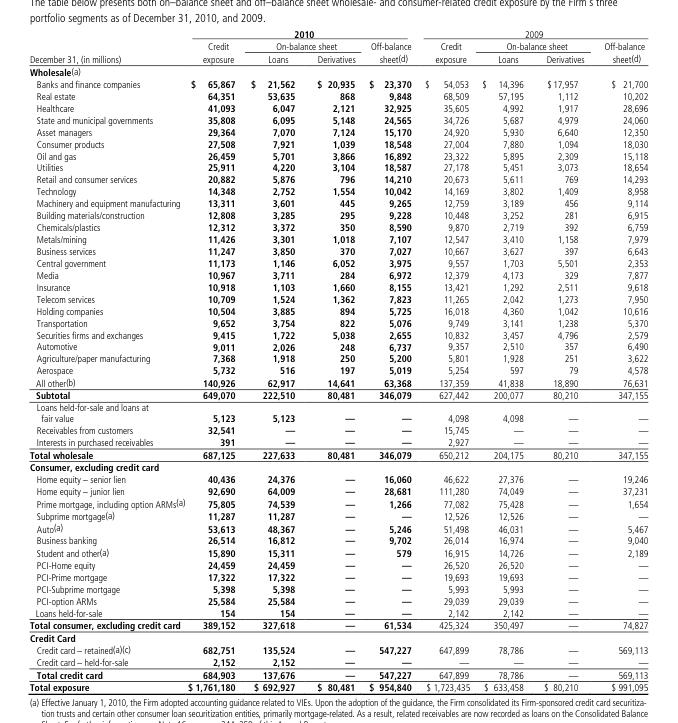table: (28, 29, 647, 692)
table column: (28, 29, 185, 692), (242, 29, 305, 692), (532, 29, 593, 692), (417, 29, 475, 692), (185, 29, 242, 692), (475, 29, 532, 692), (305, 29, 361, 692), (361, 29, 417, 692), (593, 29, 647, 692)
table column header: (28, 29, 647, 65)
table projected row header: (28, 65, 647, 78), (28, 461, 647, 473), (28, 631, 647, 643)
table row: (28, 401, 647, 424), (28, 52, 647, 65), (28, 65, 647, 78), (28, 376, 647, 389), (28, 448, 647, 461), (28, 521, 647, 534), (28, 546, 647, 559), (28, 606, 647, 619), (28, 643, 647, 656), (28, 668, 647, 681), (28, 40, 647, 52), (28, 78, 647, 90), (28, 101, 647, 113), (28, 113, 647, 125), (28, 125, 647, 137), (28, 137, 647, 149), (28, 149, 647, 161), (28, 161, 647, 173), (28, 173, 647, 185), (28, 185, 647, 197), (28, 197, 647, 209), (28, 209, 647, 221), (28, 221, 647, 233), (28, 233, 647, 245), (28, 245, 647, 257), (28, 257, 647, 269), (28, 269, 647, 281), (28, 281, 647, 293), (28, 304, 647, 316), (28, 316, 647, 328), (28, 328, 647, 340), (28, 340, 647, 352), (28, 352, 647, 364), (28, 364, 647, 376), (28, 389, 647, 401), (28, 424, 647, 436), (28, 436, 647, 448), (28, 461, 647, 473), (28, 473, 647, 485), (28, 485, 647, 497), (28, 497, 647, 509), (28, 509, 647, 521), (28, 534, 647, 546), (28, 559, 647, 571), (28, 582, 647, 594), (28, 594, 647, 606), (28, 619, 647, 631), (28, 631, 647, 643), (28, 656, 647, 668), (28, 29, 647, 40), (28, 90, 647, 101), (28, 293, 647, 304), (28, 571, 647, 582), (28, 681, 647, 692)
table spanning cell: (28, 29, 185, 65), (185, 29, 417, 40), (417, 29, 647, 40), (417, 40, 475, 65), (242, 40, 361, 52), (185, 40, 242, 65), (475, 40, 593, 52), (361, 40, 417, 65), (593, 40, 647, 65)
